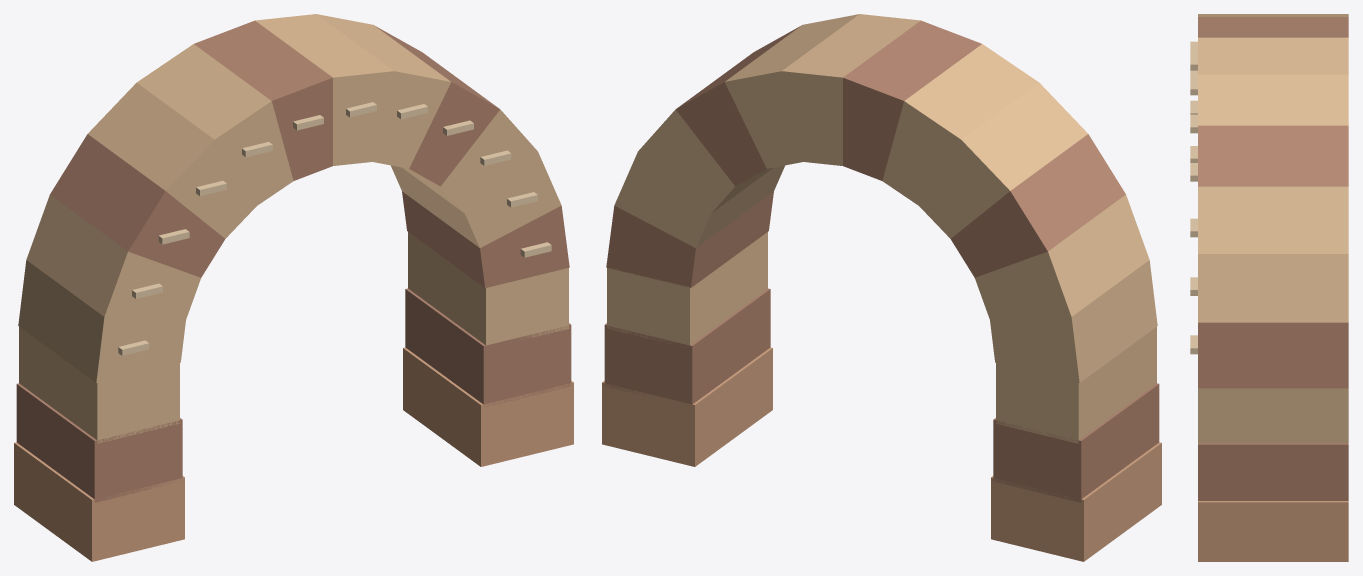
Rendered from natural-arch.glb.
The picture shows the model from 3 angles, left to right: view 1: azimuth 30°, elevation 25°; view 2: azimuth 150°, elevation 25°; view 3: azimuth 270°, elevation 25°; orthographic projection. The views are drawn at different scales.
Size of the model in its own units: 28.5 by 24.05 by 8.4.
